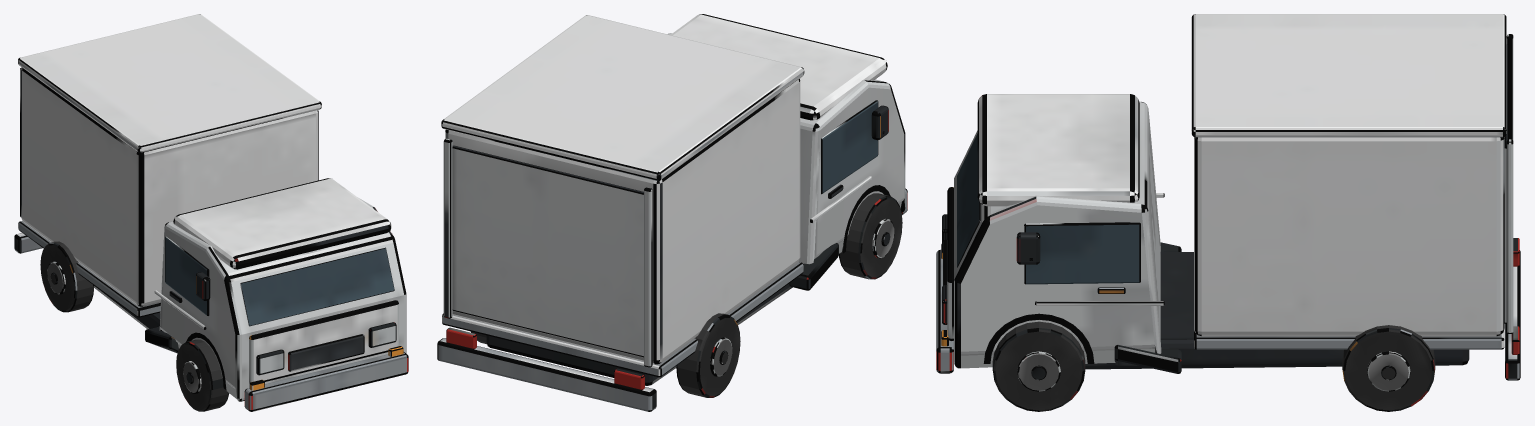
Rendered from isuzu_elf_2024_map_textured_refined_wheels_v2.glb.
3 renders of one model, left to right at view 1: azimuth 30°, elevation 25°; view 2: azimuth 150°, elevation 25°; view 3: azimuth 270°, elevation 25°, orthographic. The views are drawn at different scales.
Parts seen in each view (by area): view 1: IsuzuElfMapTexturedRefined; view 2: IsuzuElfMapTexturedRefined; view 3: IsuzuElfMapTexturedRefined.
Boxes of the visible parts, left/top/right/bottom form: IsuzuElfMapTexturedRefined: left=14, top=14, right=408, bottom=411; IsuzuElfMapTexturedRefined: left=437, top=14, right=907, bottom=411; IsuzuElfMapTexturedRefined: left=936, top=14, right=1520, bottom=411.
Size of the model in its own units: 0.538 by 0.556 by 1.05.
1 material, 1 textured.
